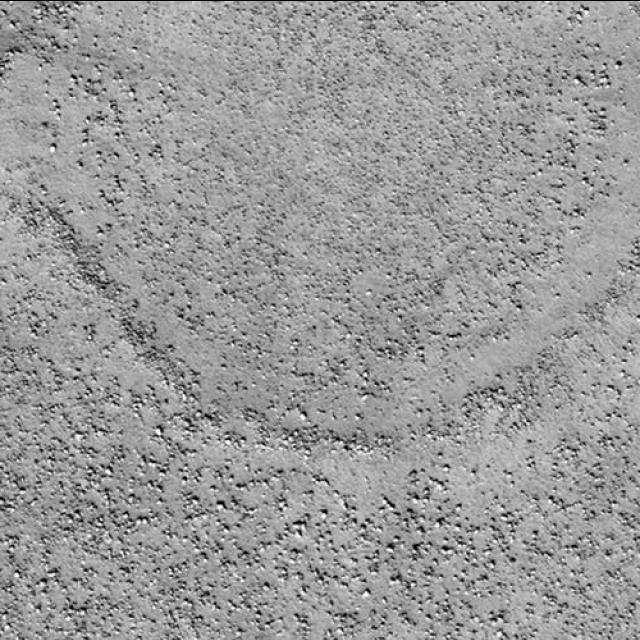crater: (0, 0, 640, 494), (430, 564, 552, 640)
